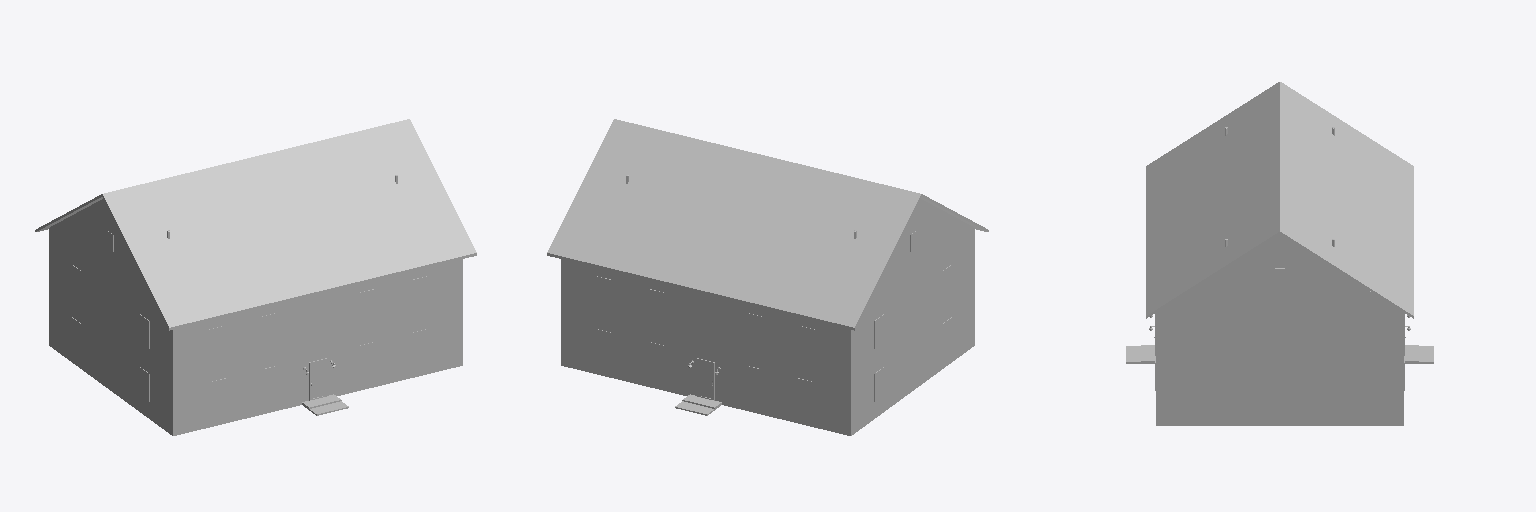
The model's file is residential_wood_1.obj.
The picture shows the model from 3 angles: view 1: azimuth 30°, elevation 25°; view 2: azimuth 150°, elevation 25°; view 3: azimuth 270°, elevation 25°; orthographic projection.
Visible parts, largest first — view 1: House1_HP; view 2: House1_HP; view 3: House1_HP.
Boxes of the visible parts, <box> form: House1_HP: <box>35,119,476,435</box>; House1_HP: <box>547,119,988,435</box>; House1_HP: <box>1126,82,1433,425</box>.
Size of the model in its own units: 0.8731 by 0.541 by 0.7571.